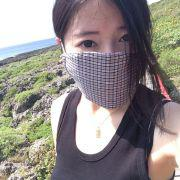OK: (59, 23, 145, 109)
